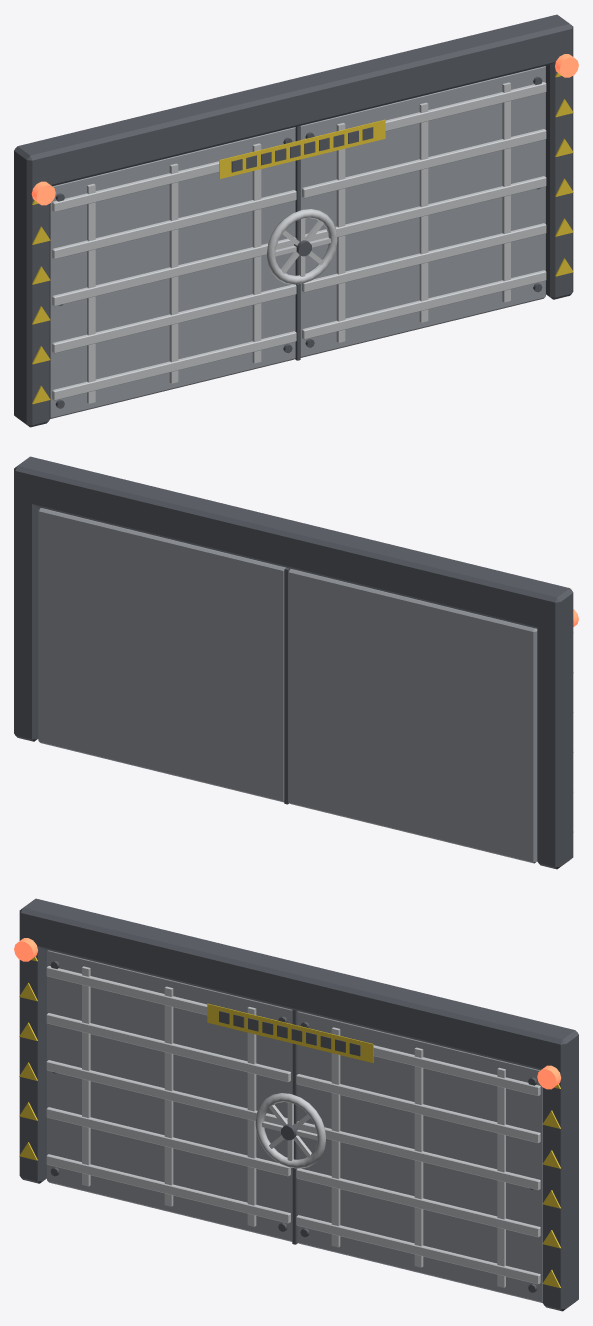
Rendered from shutter_blast.glb.
The picture shows the model from 3 angles, top to bottom: view 1: azimuth 30°, elevation 25°; view 2: azimuth 150°, elevation 25°; view 3: azimuth 330°, elevation 25°; orthographic projection.
Parts seen in each view (by area): view 1: shutter_blast; view 2: shutter_blast; view 3: shutter_blast.
Boxes of the visible parts, x1,y1,x2,y2 form: shutter_blast: [14, 14, 578, 427]; shutter_blast: [14, 456, 578, 869]; shutter_blast: [14, 898, 578, 1311].
Size of the model in its own units: 7.9 by 3.75 by 0.56.
